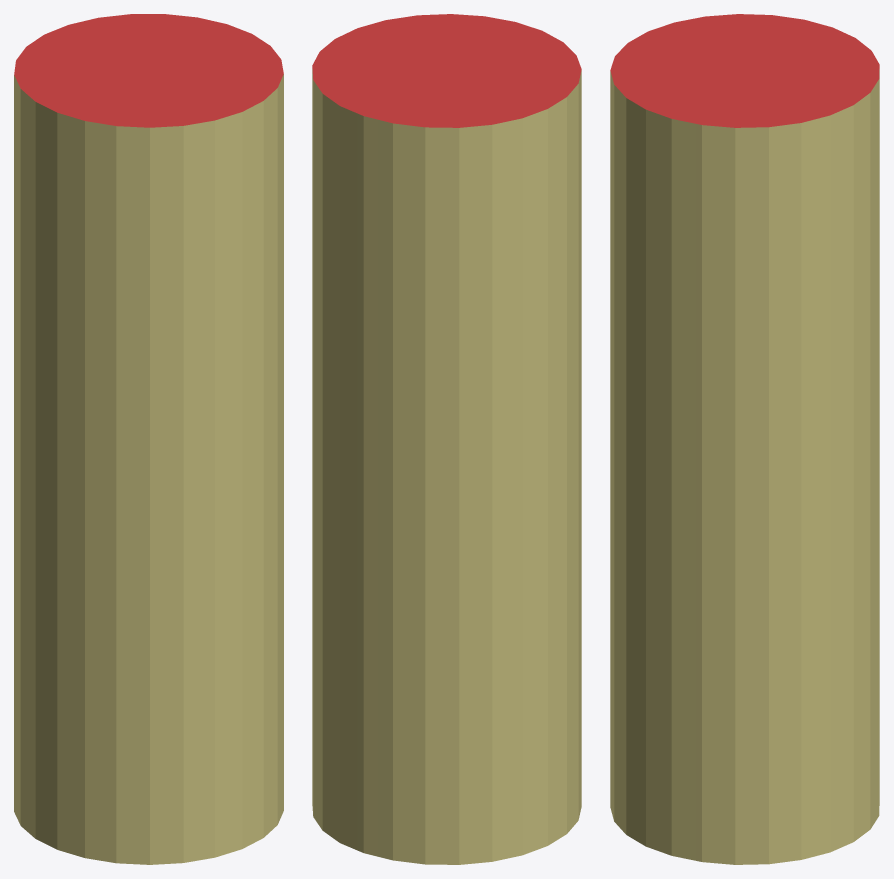
The picture shows the model from 3 angles, left to right: view 1: azimuth 30°, elevation 25°; view 2: azimuth 150°, elevation 25°; view 3: azimuth 270°, elevation 25°; orthographic projection.
Bounding box in the file's own units: 4.67 × 4.67 × 14.1.
